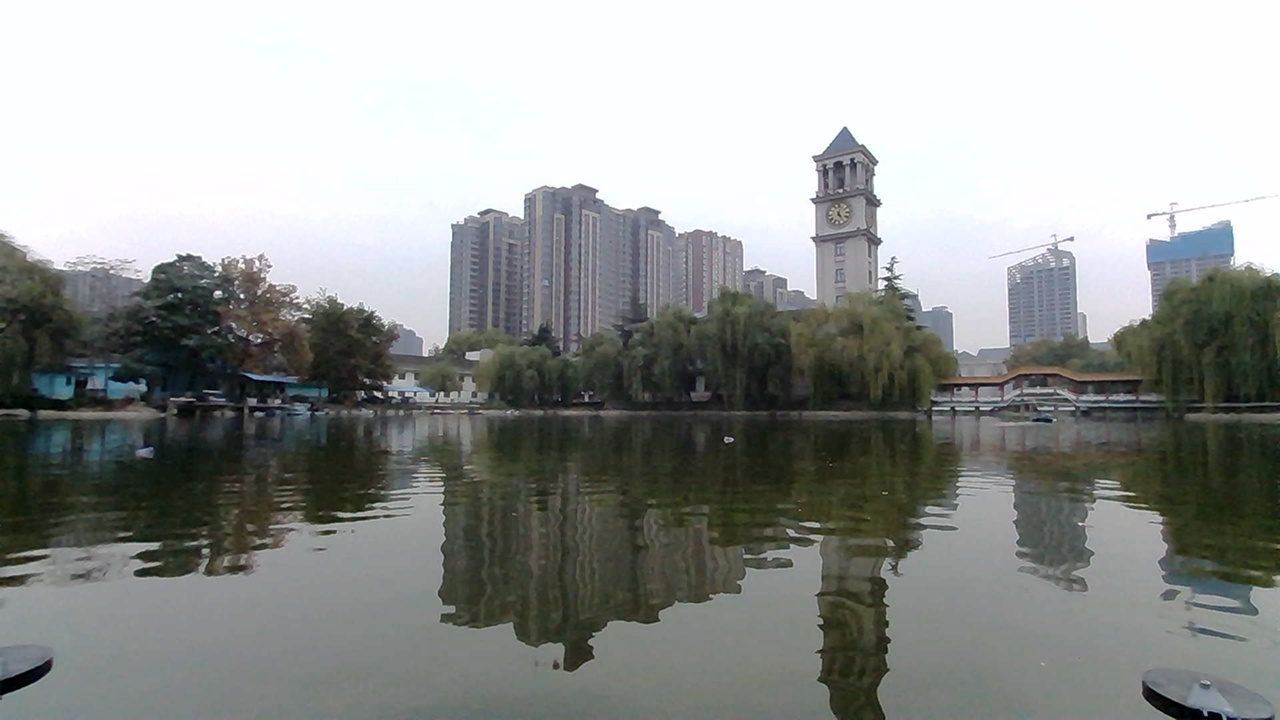bottle: (127, 434, 176, 471), (708, 422, 751, 451)
